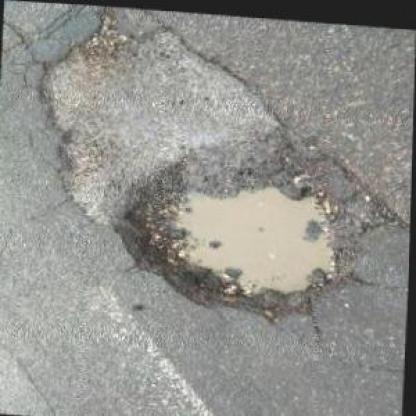pothole: (105, 151, 365, 320)
